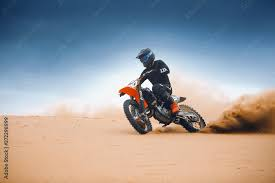motorcycle: (119, 82, 207, 135)
